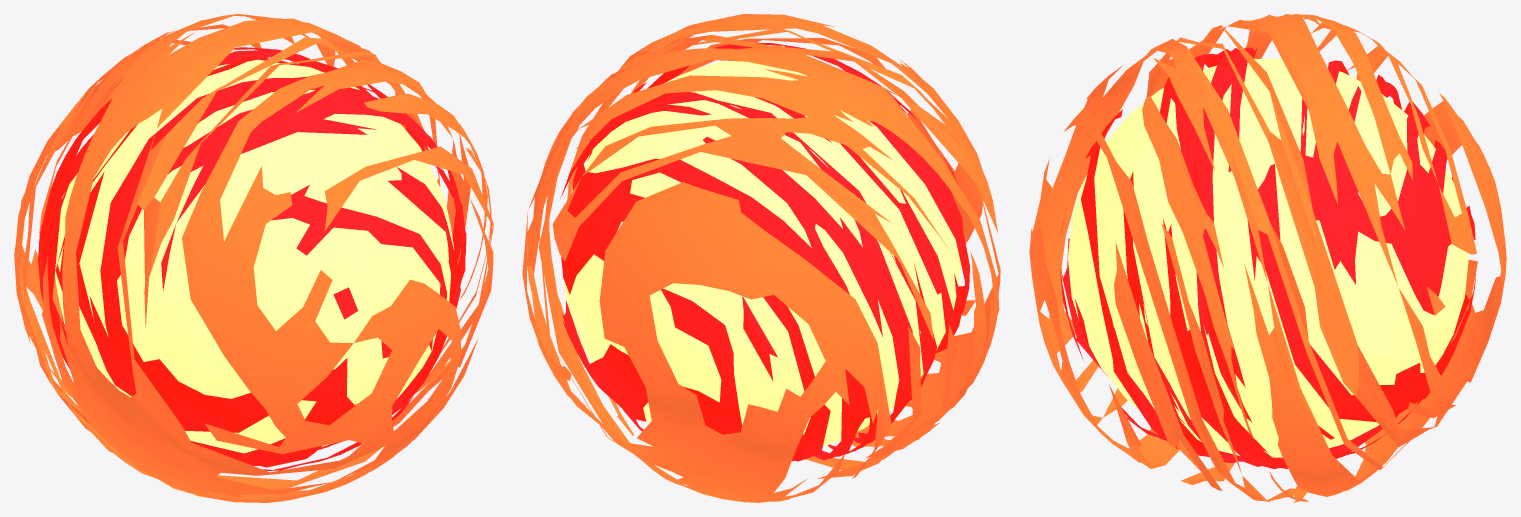
The model's file is RedFireMagma.fbx.
3 views of the same model, side by side, from view 1: azimuth 30°, elevation 25°; view 2: azimuth 150°, elevation 25°; view 3: azimuth 270°, elevation 25° (orthographic).
Visible parts, largest first — view 1: Sphere, Sphere.001, Sphere.002; view 2: Sphere, Sphere.001, Sphere.002; view 3: Sphere, Sphere.001, Sphere.002.
Part boxes in pixels (bbox=[...]): Sphere: bbox=[14, 14, 493, 502]; Sphere.001: bbox=[54, 59, 454, 453]; Sphere.002: bbox=[38, 47, 466, 470]; Sphere: bbox=[522, 14, 1000, 502]; Sphere.001: bbox=[563, 60, 961, 446]; Sphere.002: bbox=[560, 42, 969, 461]; Sphere: bbox=[1029, 14, 1506, 502]; Sphere.001: bbox=[1068, 58, 1468, 457]; Sphere.002: bbox=[1060, 47, 1475, 469].
Size of the model in its own units: 197 by 193 by 191.
